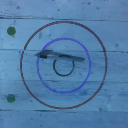Axe Tip: (36, 55, 49, 57)
